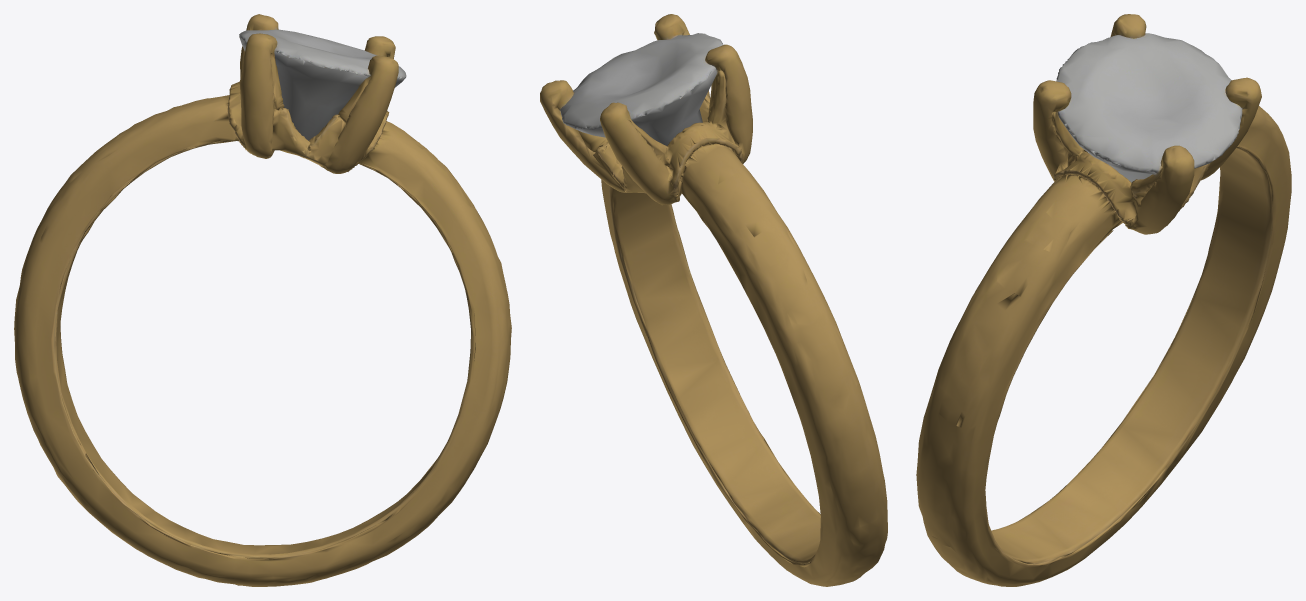
File: r33-ring.glb
3 renders of one model, left to right at view 1: azimuth 30°, elevation 25°; view 2: azimuth 150°, elevation 25°; view 3: azimuth 270°, elevation 25°, orthographic. The views are drawn at different scales.
Parts seen in each view (by area): view 1: tripo_node_62aaa59b-35ca-41c7-b96c-940dda252678; view 2: tripo_node_62aaa59b-35ca-41c7-b96c-940dda252678; view 3: tripo_node_62aaa59b-35ca-41c7-b96c-940dda252678.
Part boxes in pixels (x1,y1,x2,y2): tripo_node_62aaa59b-35ca-41c7-b96c-940dda252678: (14,14,511,586); tripo_node_62aaa59b-35ca-41c7-b96c-940dda252678: (540,14,887,586); tripo_node_62aaa59b-35ca-41c7-b96c-940dda252678: (916,14,1291,586).
Bounding box in the file's own units: 0.7559 × 0.998 × 0.5957.
Materials: 1 (1 with a texture image).
